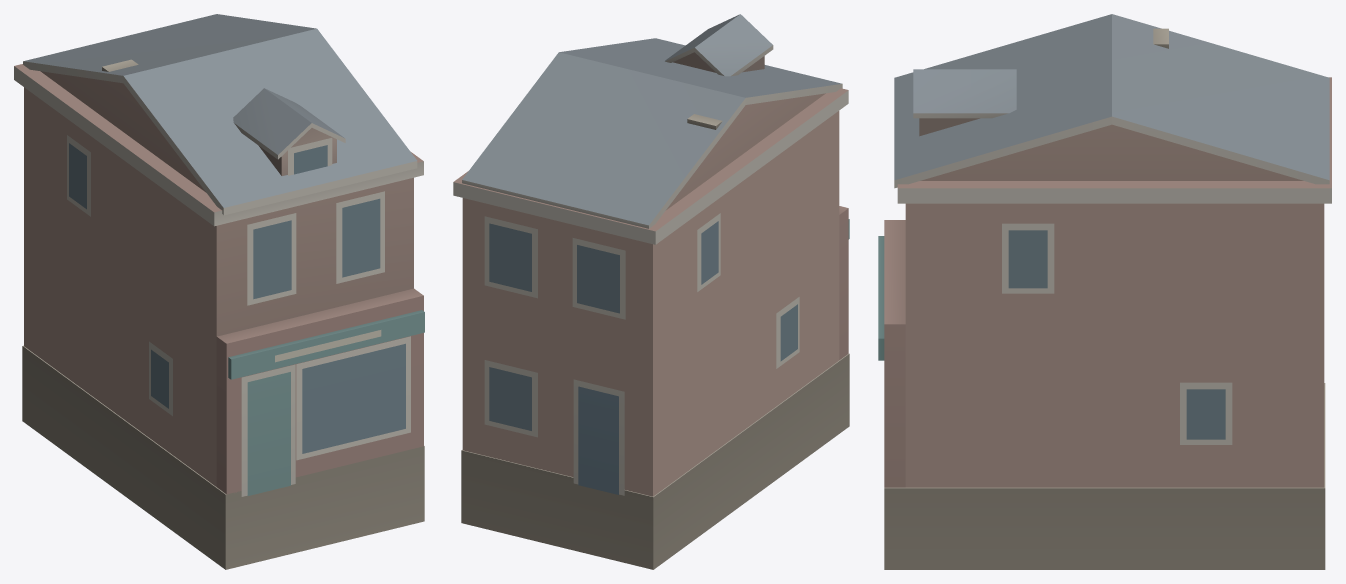
The model's file is terrace_c.lod2.glb.
3 renders of one model, left to right at view 1: azimuth 30°, elevation 25°; view 2: azimuth 150°, elevation 25°; view 3: azimuth 270°, elevation 25°, orthographic. The views are drawn at different scales.
Size of the model in its own units: 4.72 by 8.96 by 8.16.
